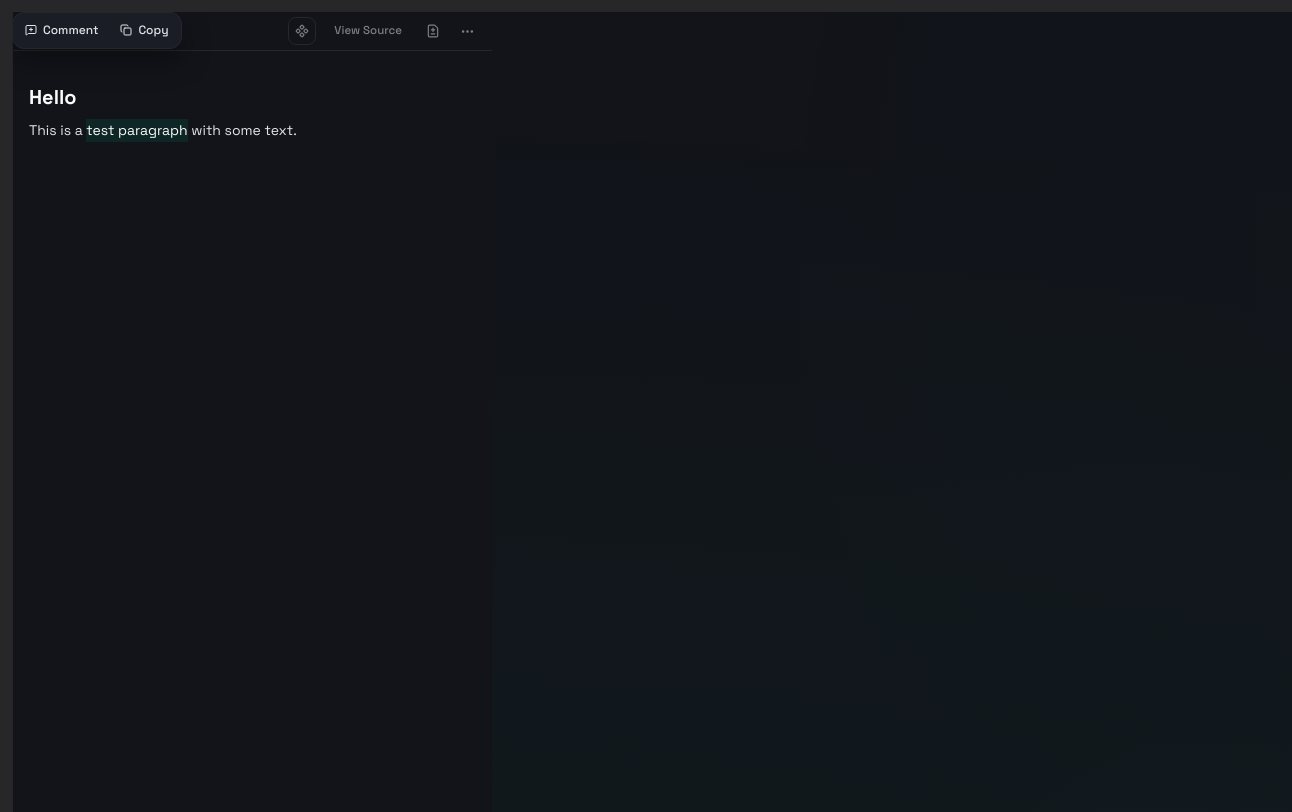
Scenario: MarkdownPanel comment/copy flow › adds comment and shows pending list after submitting comment text
Click the button "Comment" at (62, 30), box [15,15,108,46]
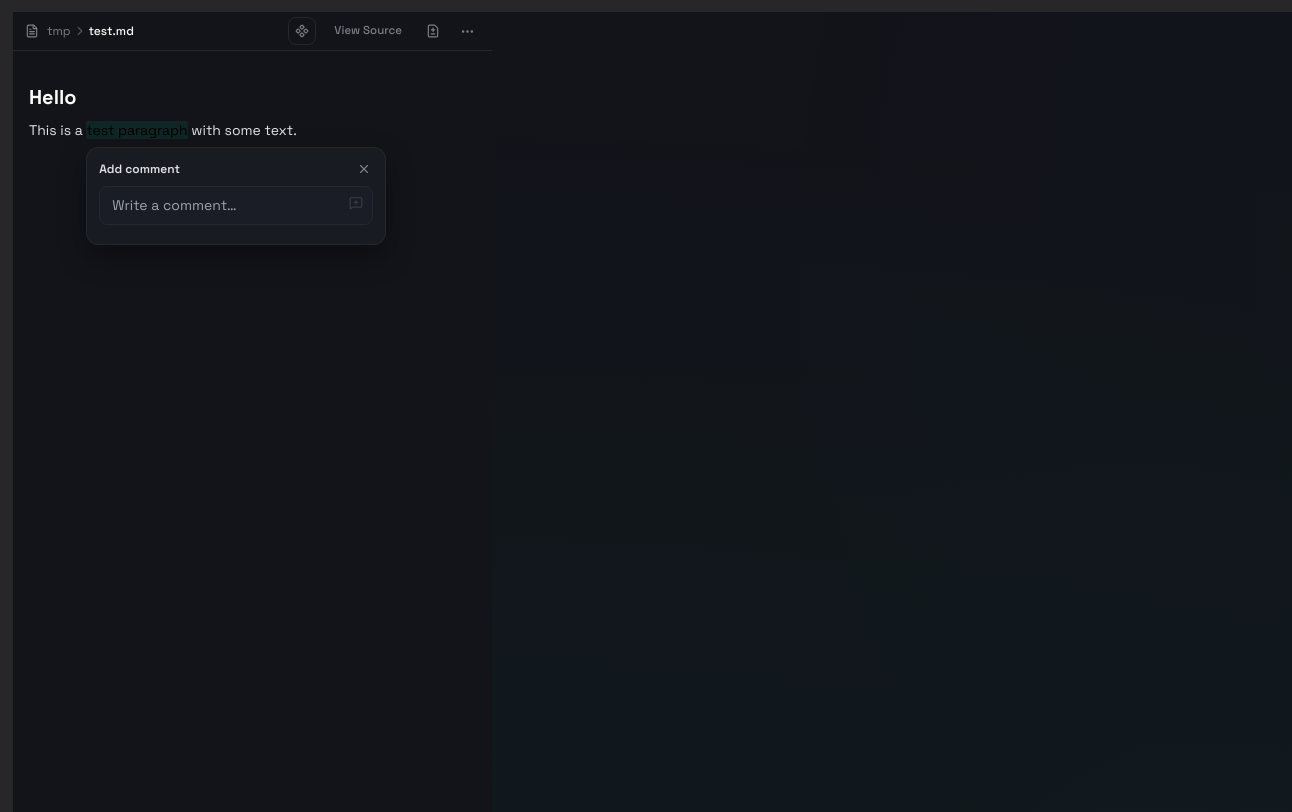
Check: the text box with placeholder "Write a comment…" is shown
Type "Fix this section" into the text box with placeholder "Write a comment…" at (236, 206), box [99,186,373,225]
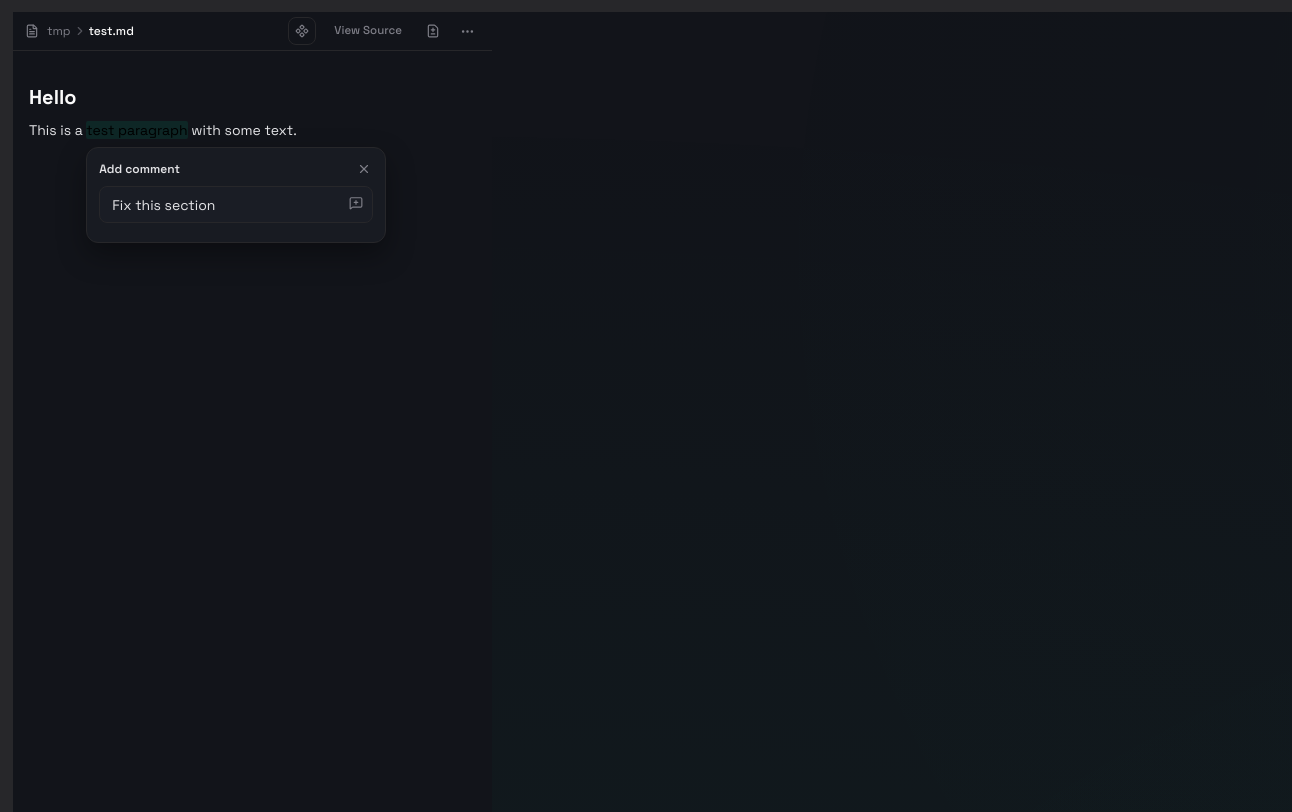
Press Enter in the text box with placeholder "Write a comment…", box [99,186,373,223]
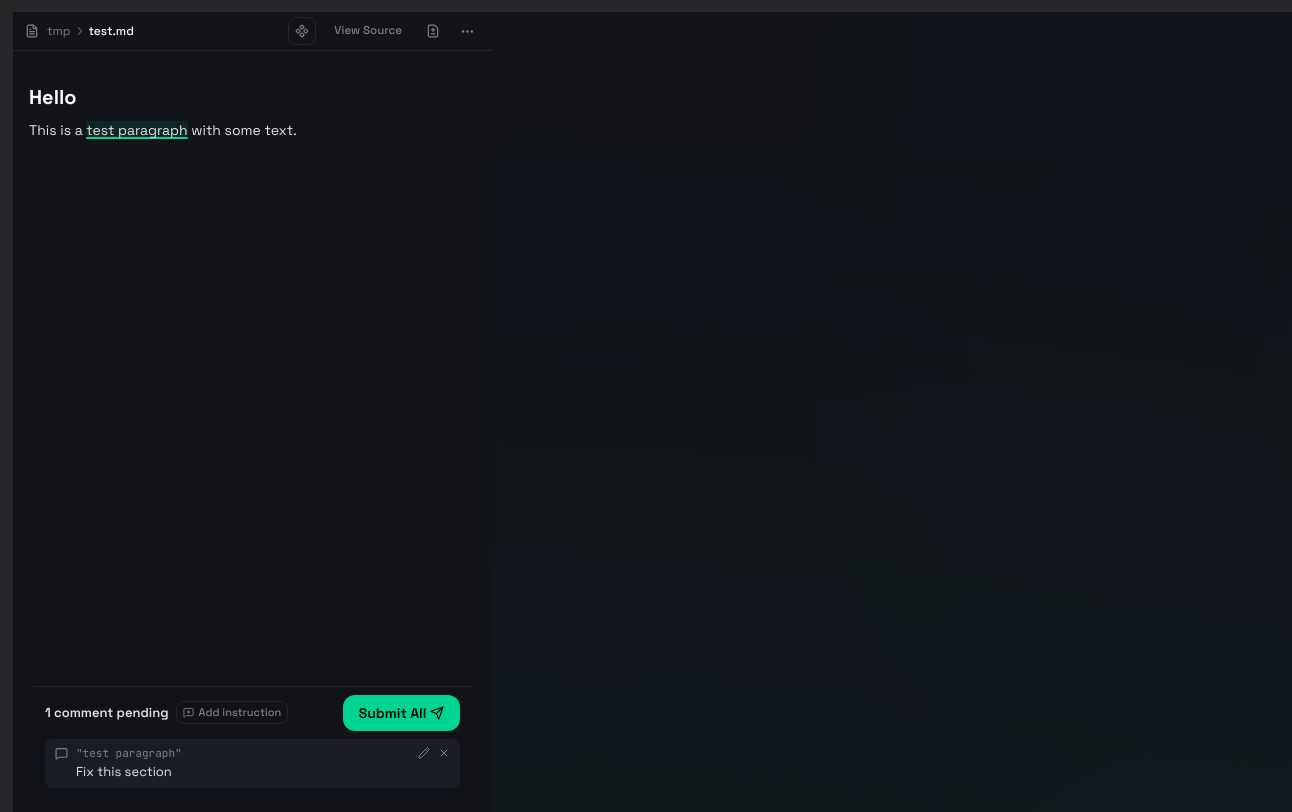
Check: the text "1 comment pending" is shown, box [45,703,168,723]
